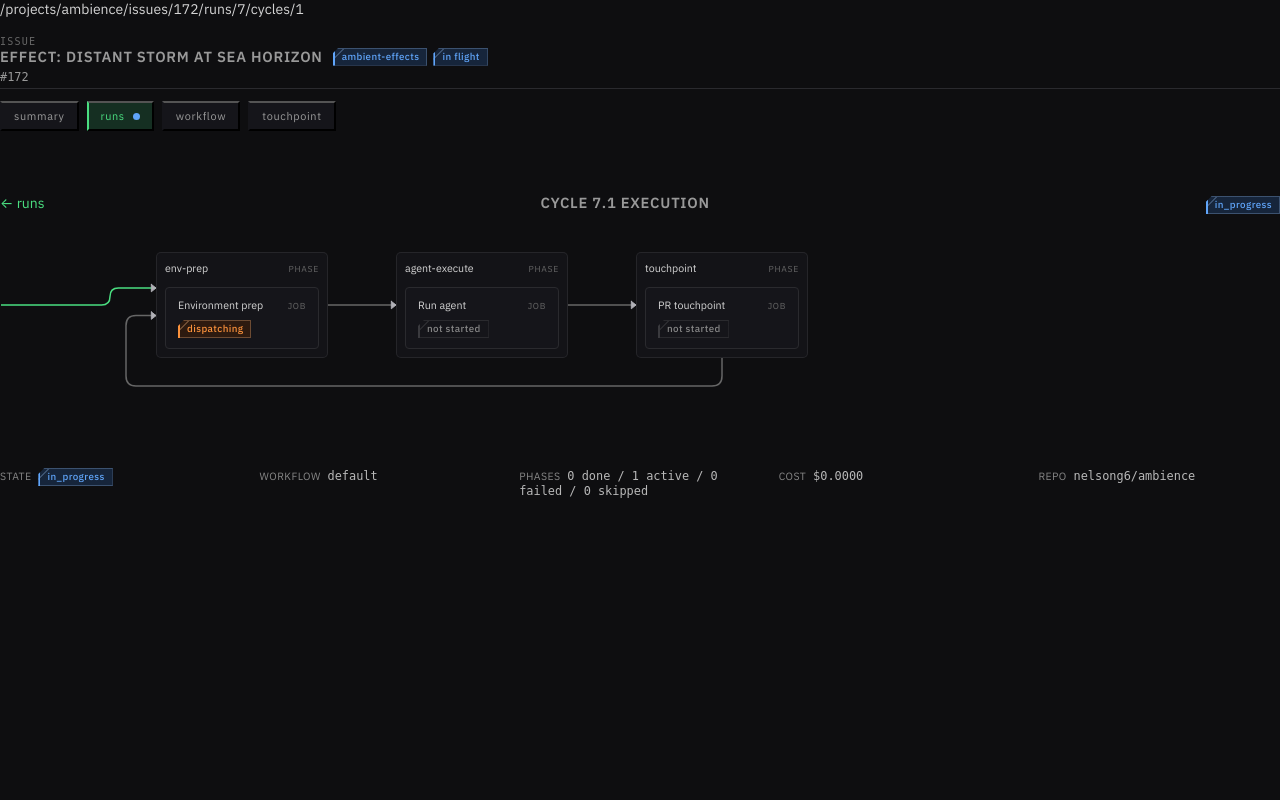
Scenario: IssueDetailView run execution graph › routes a phase header click to its phase breadcrumb path
The image size is (1280, 800).
Click the button "env-prep phase": {"x": 242, "y": 270} [165,261,319,279]
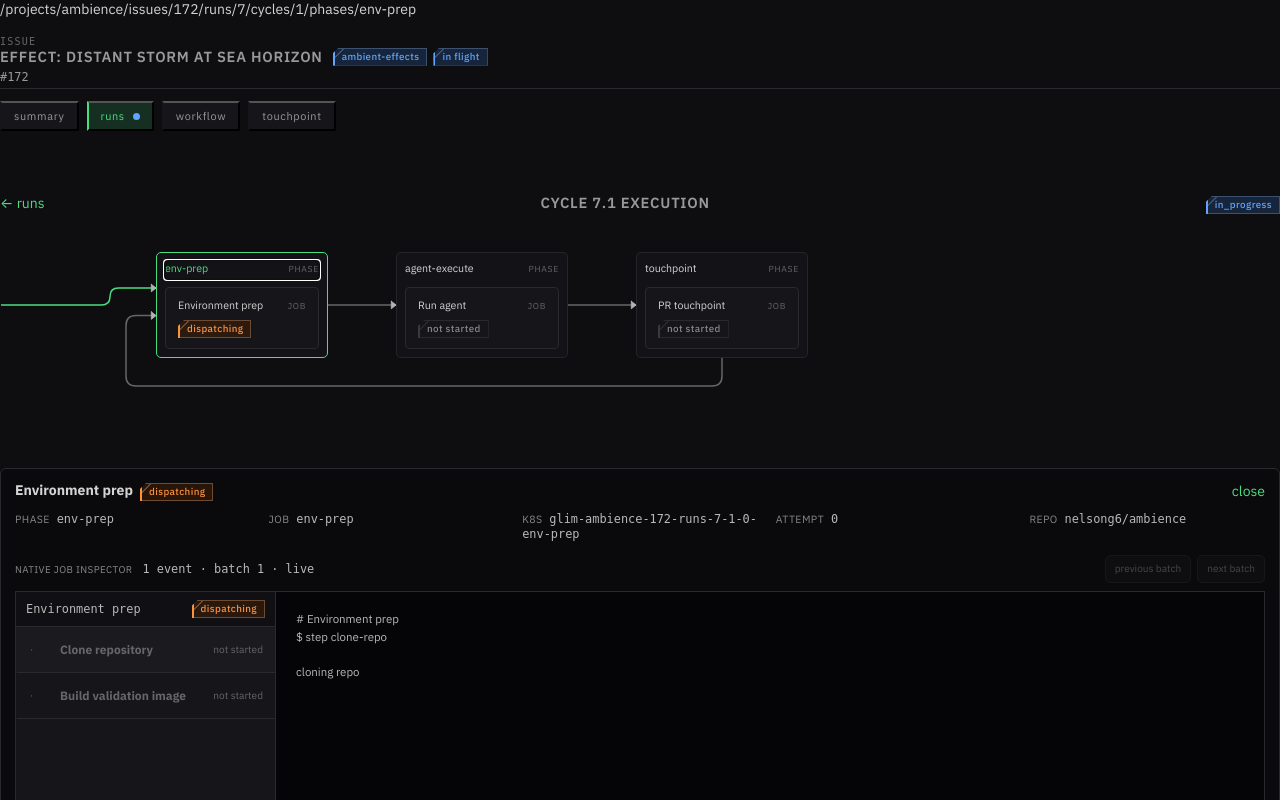
Check: the text with test id "path" reads "/projects/ambience/issues/172/runs/7/cycles/1/phases/env-prep", box [0,0,416,18]
Check: the text "native job inspector" is shown, box [15,563,132,576]
